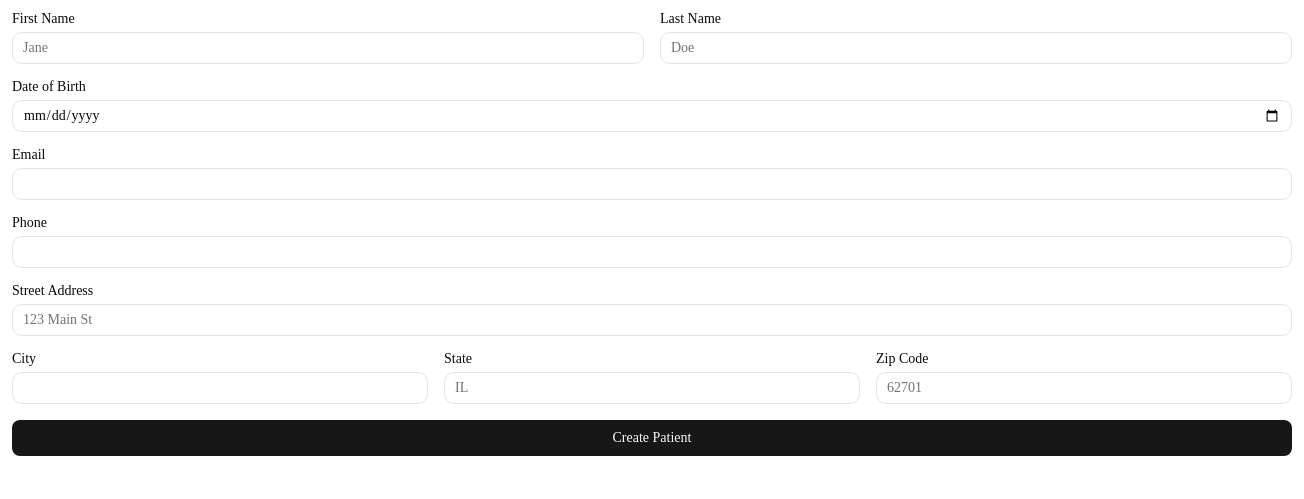
NewPatientForm › shows email error when email field is blurred with an invalid format
The image size is (1304, 499).
In the field labelled "Email": (652, 184) [12, 168, 1292, 200], type "not-an-email"
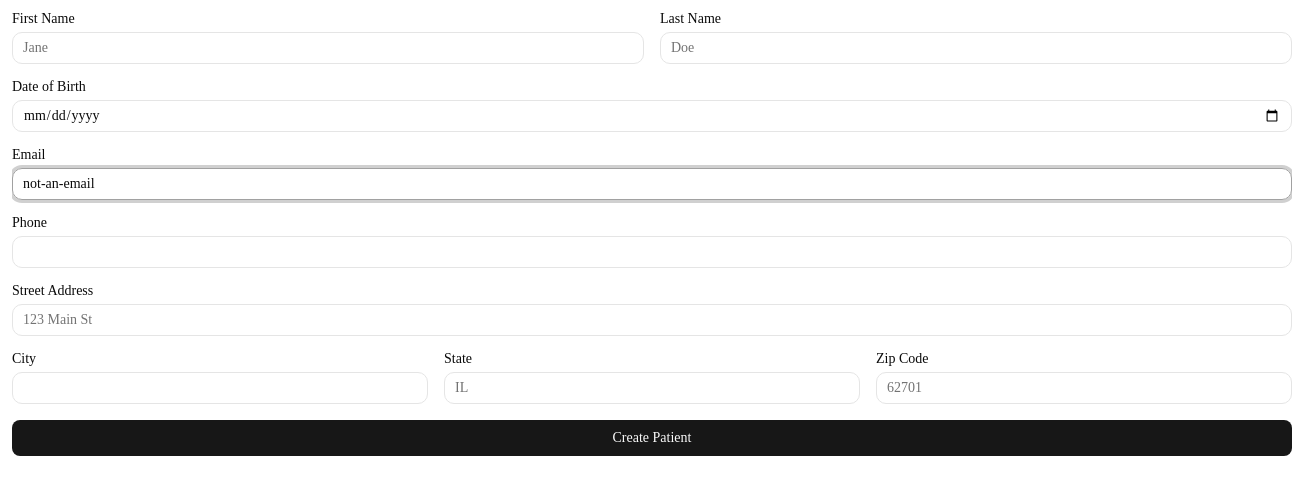
Leave the field labelled "Email", box [12, 168, 1292, 200]
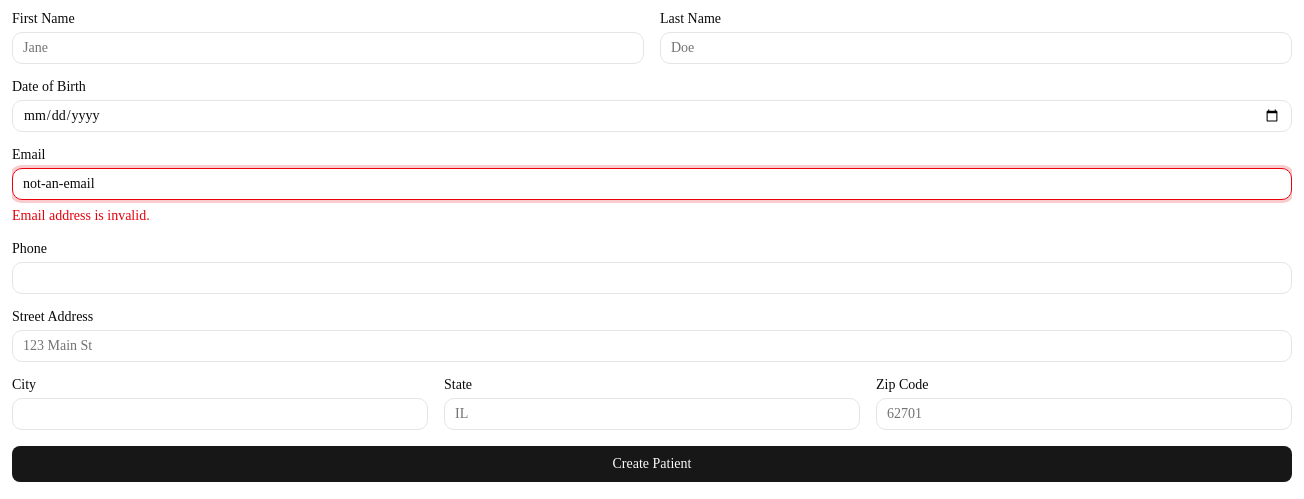
Result: the text "Email address is invalid." is shown at [12, 208, 150, 223]
